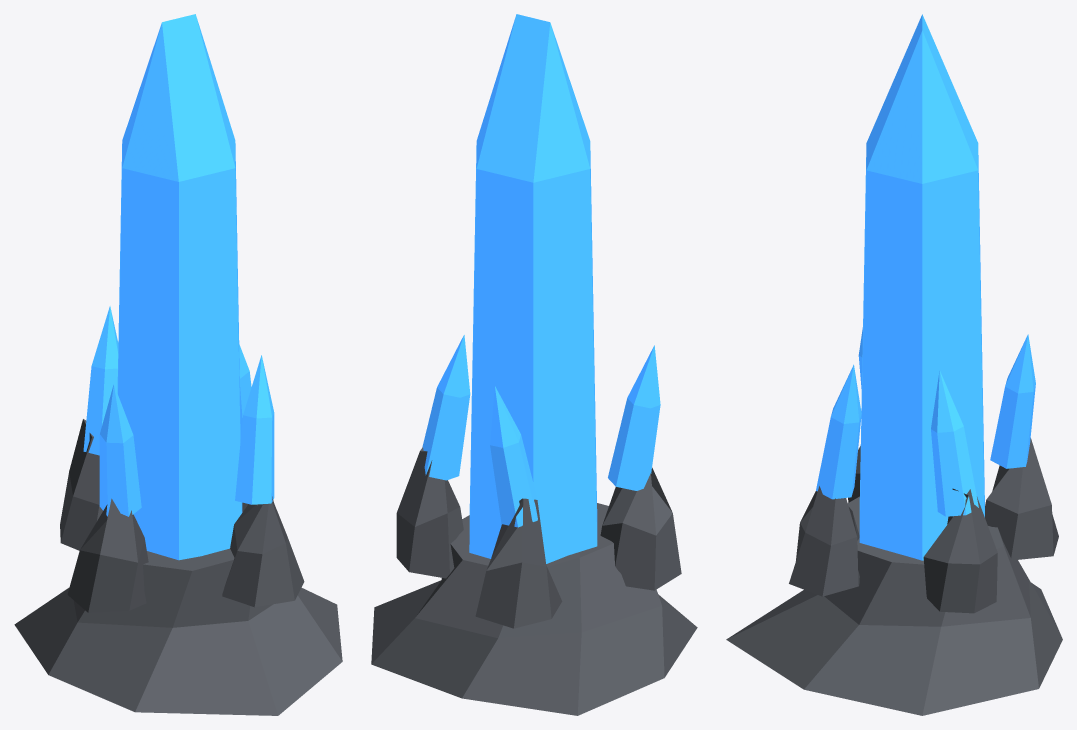
The model's file is PROP_07_CrystalPillar.fbx.
The picture shows the model from 3 angles, left to right: view 1: azimuth 30°, elevation 25°; view 2: azimuth 150°, elevation 25°; view 3: azimuth 270°, elevation 25°; orthographic projection.
Visible parts, largest first — view 1: PROP_07_CrystalPillar; view 2: PROP_07_CrystalPillar; view 3: PROP_07_CrystalPillar.
Part boxes in pixels (bbox=[...]): PROP_07_CrystalPillar: bbox=[14, 14, 342, 715]; PROP_07_CrystalPillar: bbox=[371, 14, 697, 715]; PROP_07_CrystalPillar: bbox=[726, 14, 1062, 715].
Bounding box in the file's own units: 189 × 390 × 193.
